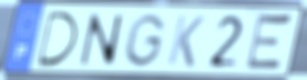2: (208, 14, 245, 71)
D: (35, 10, 80, 68)
E: (242, 11, 296, 75)
G: (121, 12, 168, 69)
K: (164, 13, 207, 70)
N: (78, 12, 125, 68)
